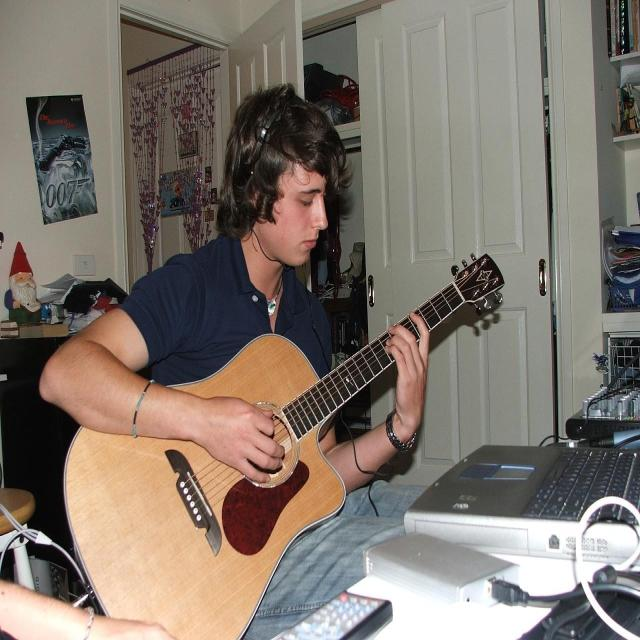guitar: (56, 250, 505, 640)
